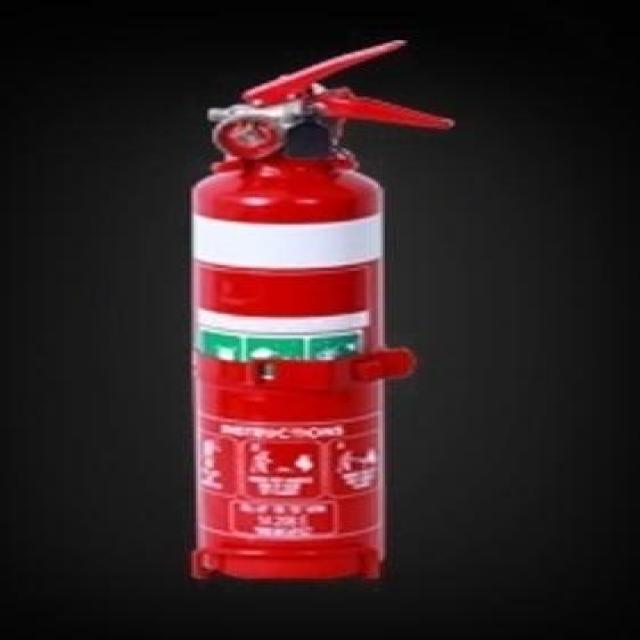fire_extinguisher: (179, 33, 459, 586)
